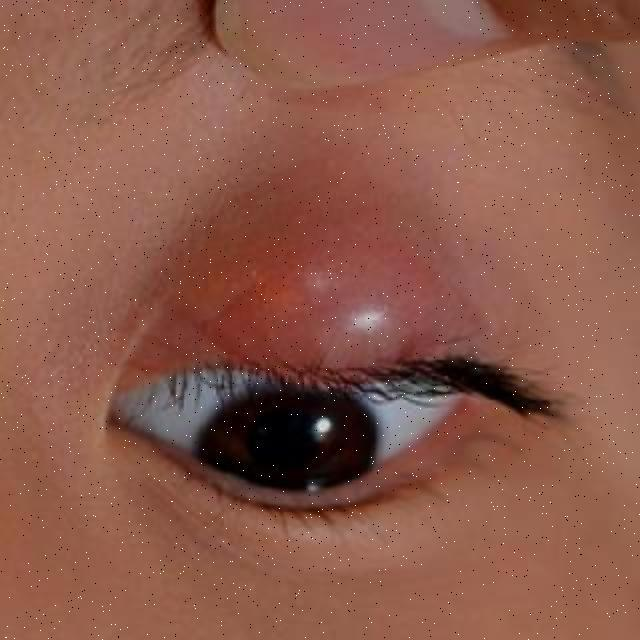Stye: (210, 248, 485, 408)
